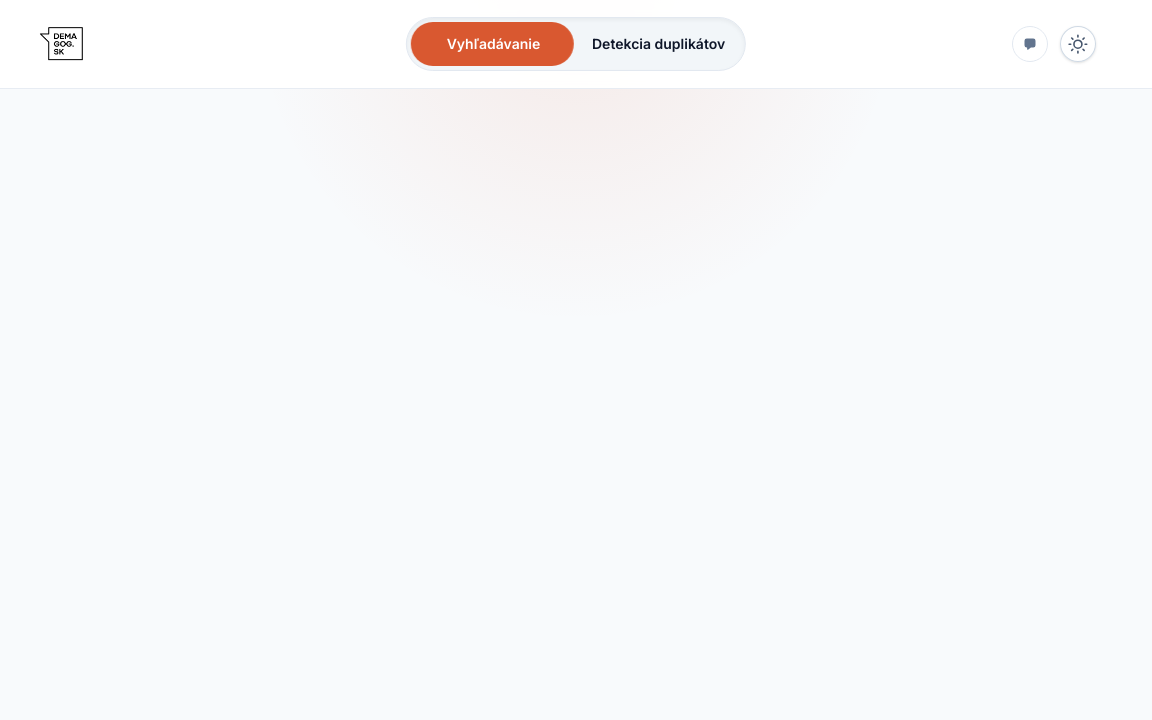
FeedbackWidget › auto-closes after a successful submission
Click the button named "Otvoriť spätnú väzbu" at (1030, 44), box [1012,26,1048,62]
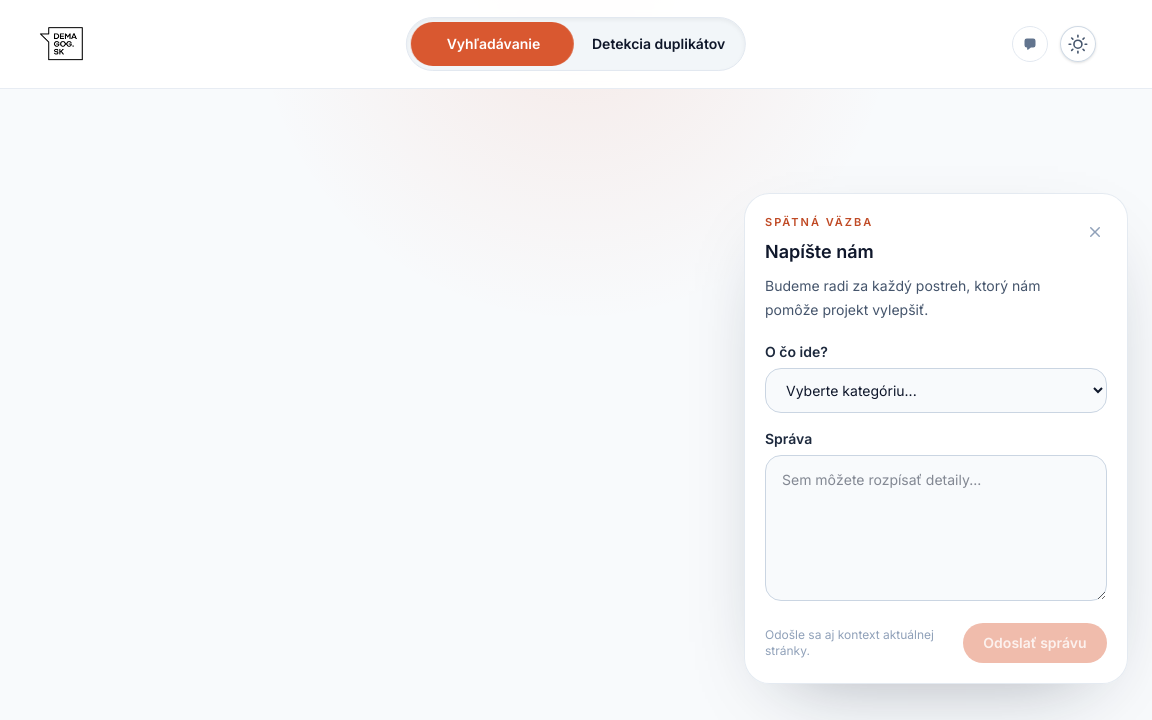
Select "Nápad na zlepšenie" in the dropdown labelled "O čo ide?" at (936, 390), box [765,368,1107,413]
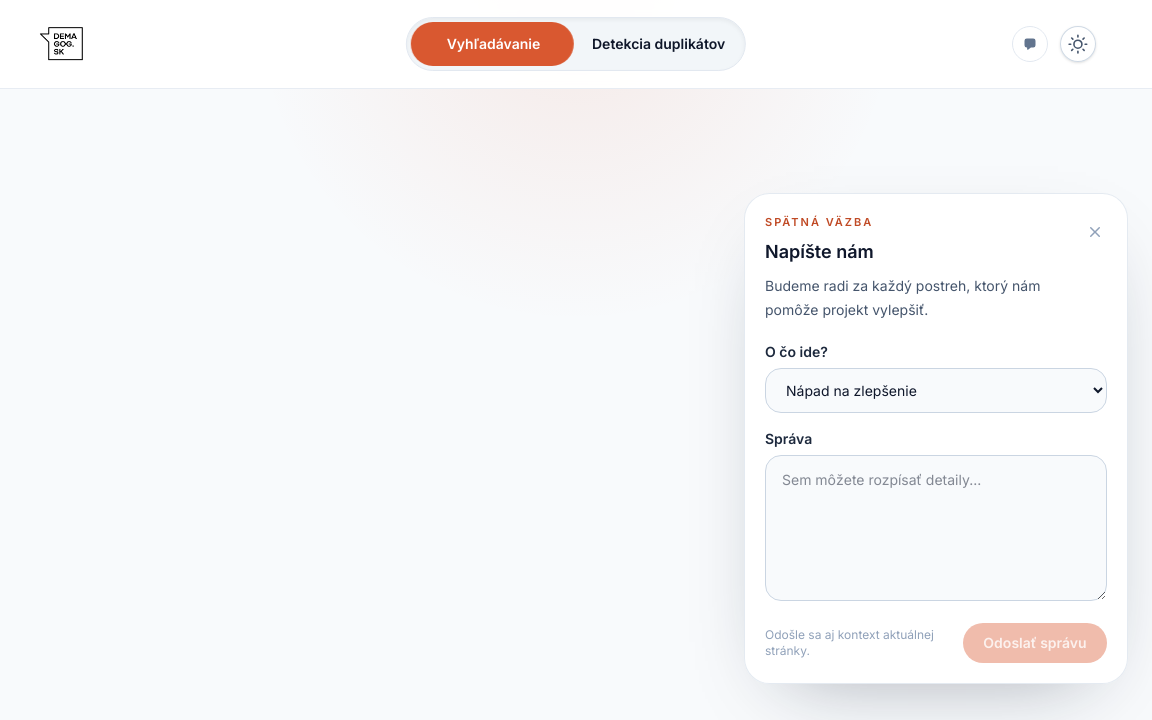
Type "Ďakujem za túto funkciu." into the text box labelled "Správa" at (936, 528), box [765,455,1107,601]
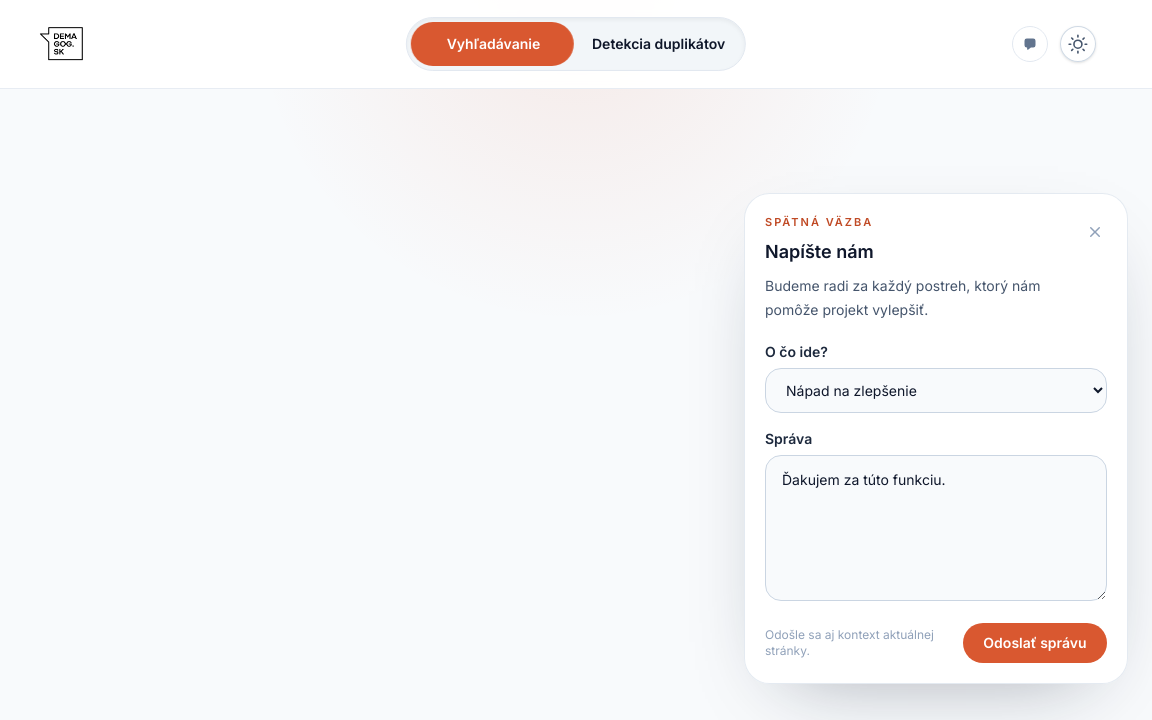
Click the button "Odoslať správu" at (1035, 643), box [963,623,1107,663]
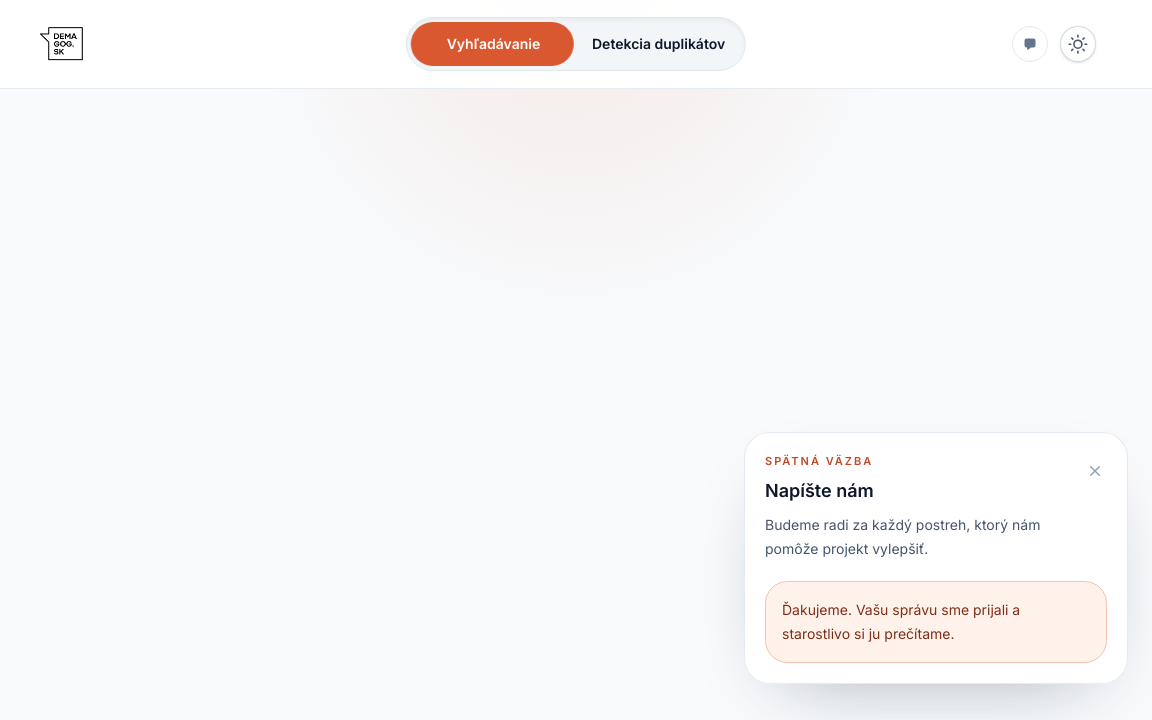
expect the dialog "Napíšte nám" is shown: met, box [744,432,1128,684]
expect the dialog "Napíšte nám" shows "Ďakujeme. Vašu správu sme prijali a starostlivo si ju prečítame.": met, box [782,601,1020,642]
